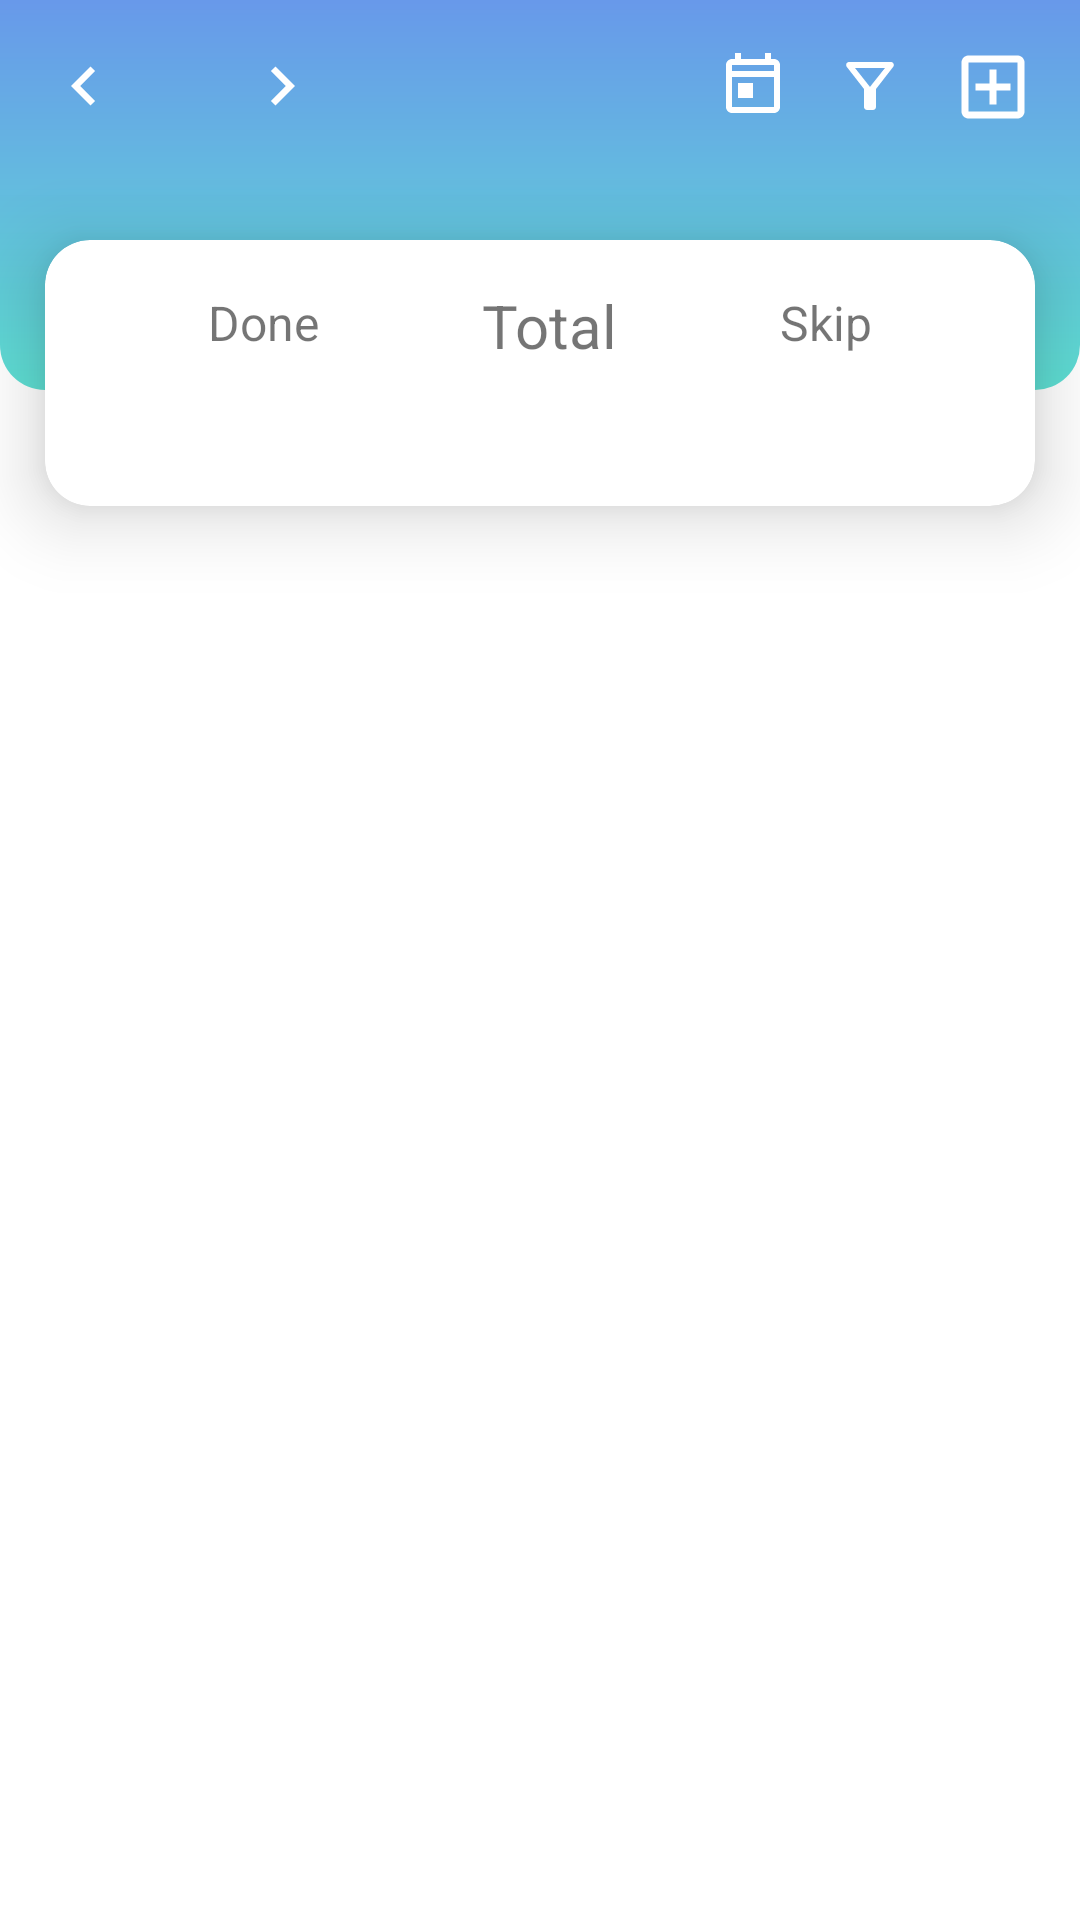

Screen size 1080*1920. Icon name, then its center in pixels as (x=x, y=y):
add box: (x=993, y=87)
calendar today: (x=753, y=83)
filter task: (x=870, y=86)
navigate next: (x=283, y=86)
navigate previous: (x=83, y=86)
